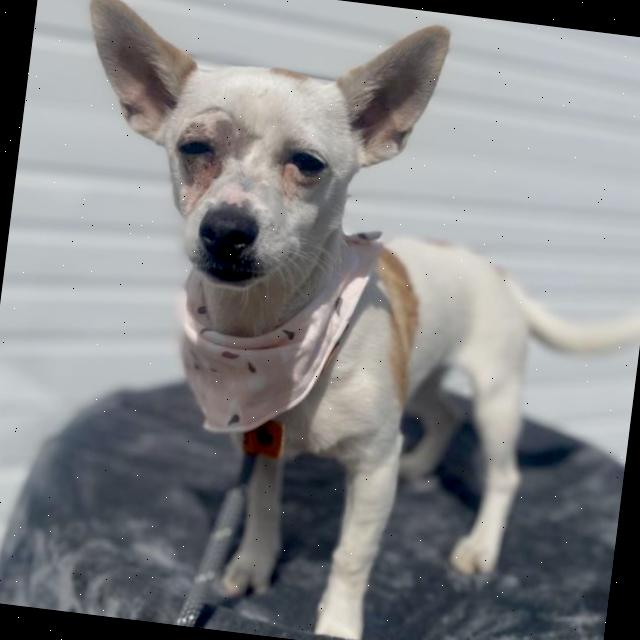chihuahua_dog: (35, 0, 474, 331)
